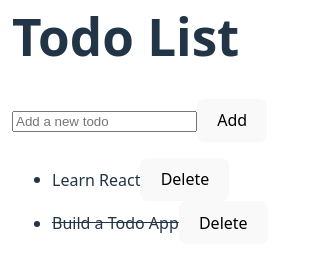
TodoList Component › can delete a todo
This screenshot has width=332, height=261.
Click the button "Delete" next to "Build a Todo App" at (223, 223), box [179,201,268,244]
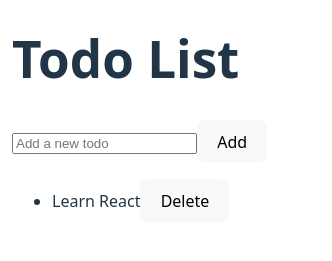
Check: the list item "Build a Todo App" is gone
